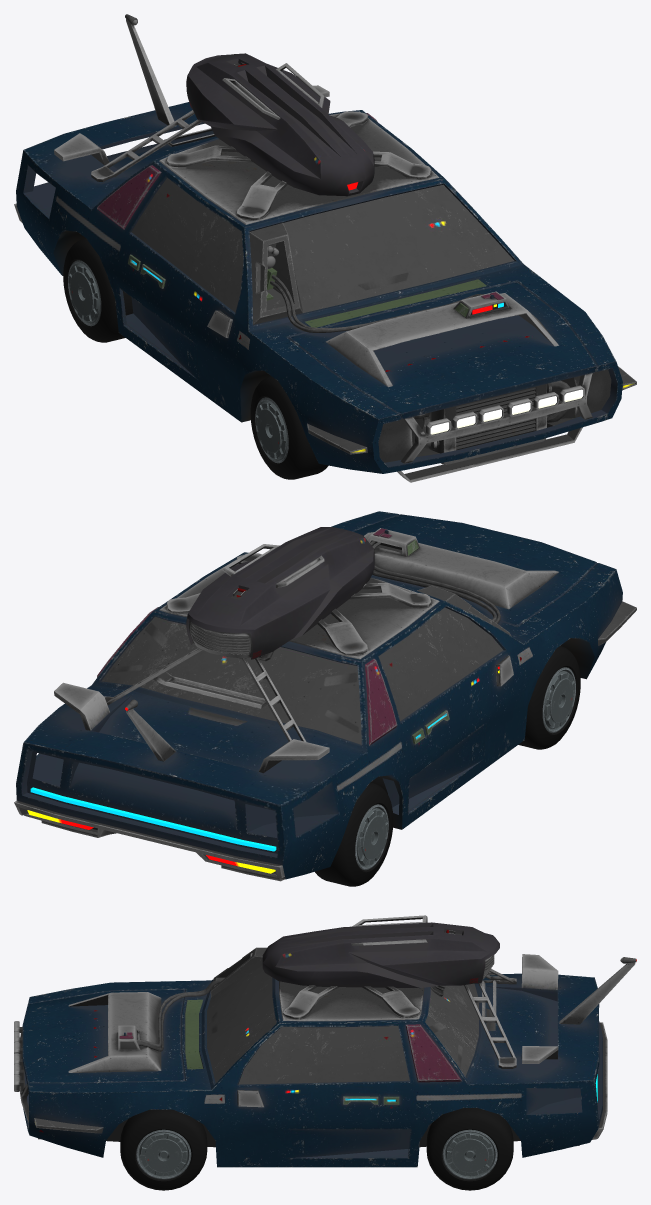
The model's file is BladeAirCar.fbx.
3 renders of one model, top to bottom at view 1: azimuth 30°, elevation 25°; view 2: azimuth 150°, elevation 25°; view 3: azimuth 270°, elevation 25°, orthographic. The views are drawn at different scales.
Parts seen in each view (by area): view 1: Bodey, Tyres.001, Tyres.003; view 2: Bodey, Tyres.003, Tyres.001; view 3: Bodey, Tyres.002, Tyres.
Part boxes in pixels (x1=…): Bodey: x1=14, y1=14, x2=636, y2=482; Tyres.001: x1=250, y1=376, x2=328, y2=479; Tyres.003: x1=63, y1=238, x2=133, y2=342; Bodey: x1=14, y1=511, x2=636, y2=881; Tyres.003: x1=315, y1=782, x2=393, y2=886; Tyres.001: x1=518, y1=646, x2=580, y2=749; Bodey: x1=14, y1=915, x2=636, y2=1167; Tyres.002: x1=426, y1=1108, x2=513, y2=1190; Tyres: x1=120, y1=1109, x2=207, y2=1190.
Bounding box in the file's own units: 105 × 86.24 × 233.
2 materials, 2 textured.
